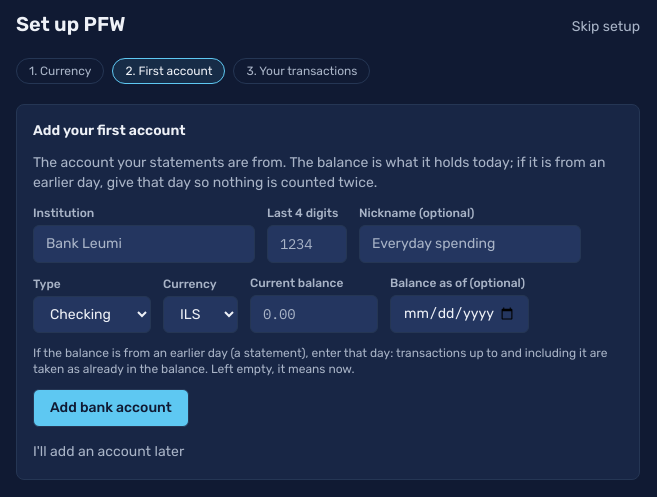
Scenario: OnboardingWizard › moves to the import step with the new account already selectable
This screenshot has width=657, height=497.
Type "QNB" into the field labelled "Institution". click: (144, 244)
box: [33,225,255,263]
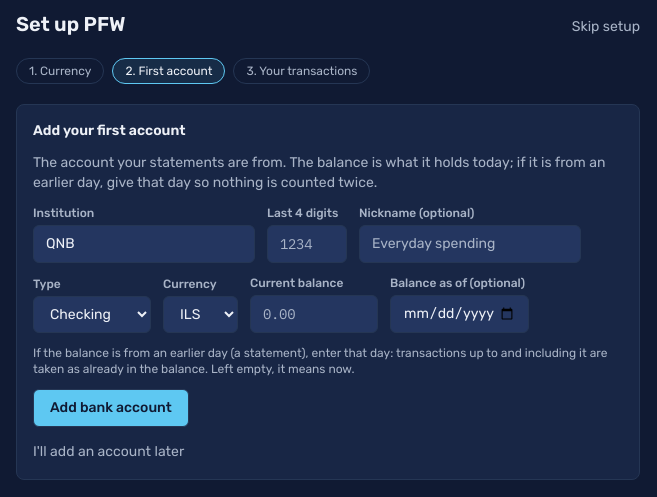
Type "7669" into the field labelled "Last 4 digits". click: (307, 244)
box: [267,225,347,263]
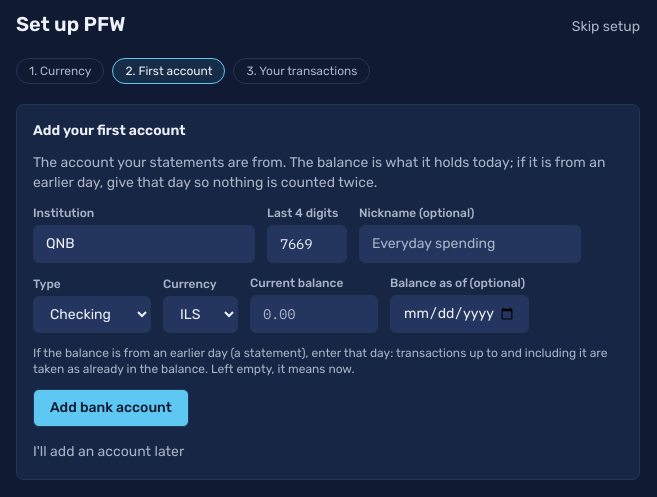
Type "1000" into the field labelled "Current balance". click: (314, 314)
box: [250,295,378,333]
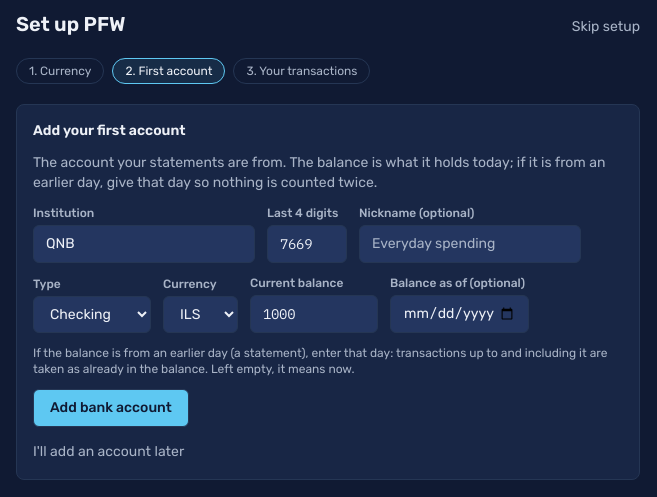
Click the button "Add bank account". click: (111, 408)
box: [33,389,189,427]
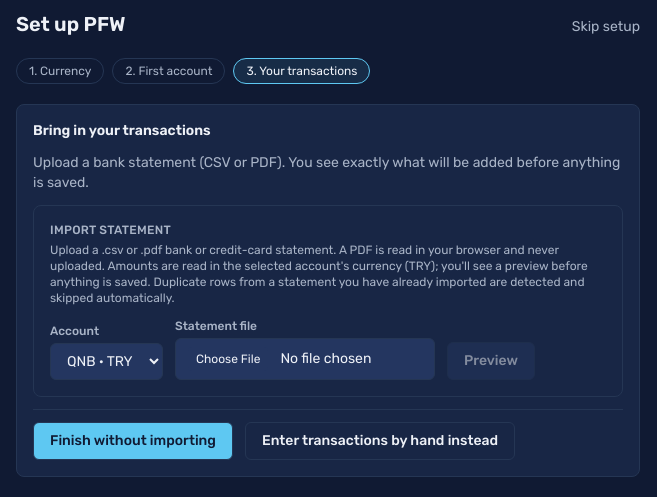
Result: the heading "Bring in your transactions" is shown at [33,122,211,139]
